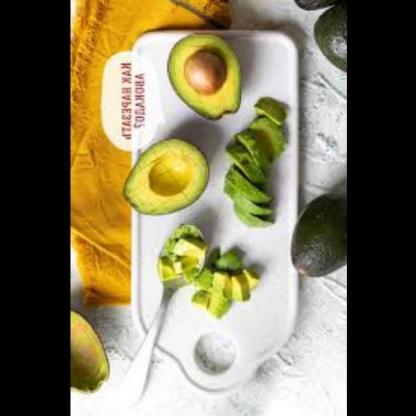avocado: (210, 72, 284, 239), (150, 224, 261, 317), (160, 20, 244, 118), (126, 130, 212, 224)
